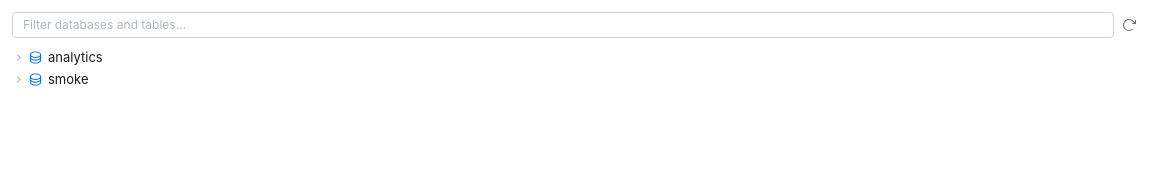
schema filter › names databases whose tables couldn't be searched
Expected: the text "smoke" is shown, [48, 69, 88, 89]
Type "zzz" into the field with placeholder "Filter databases and tables…" at (563, 25), box [12, 12, 1114, 38]
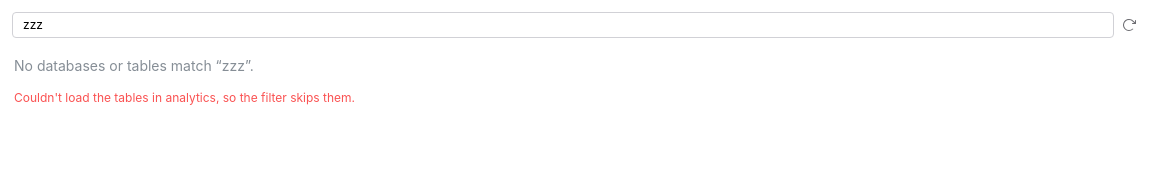
Now the text "Couldn't load the tables in analytics, so the filter skips them." is shown, box [14, 90, 355, 105]
